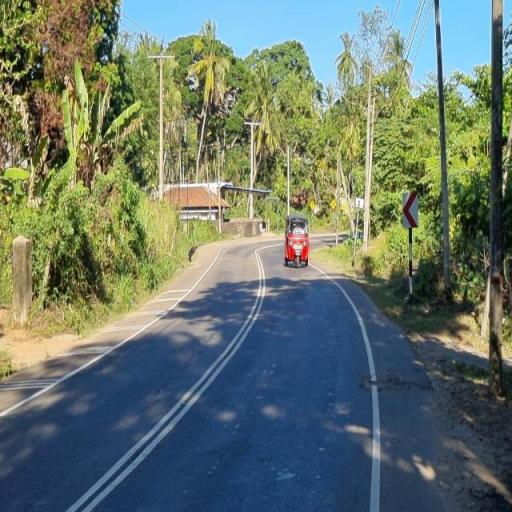double_white_line: (66, 243, 272, 512)
